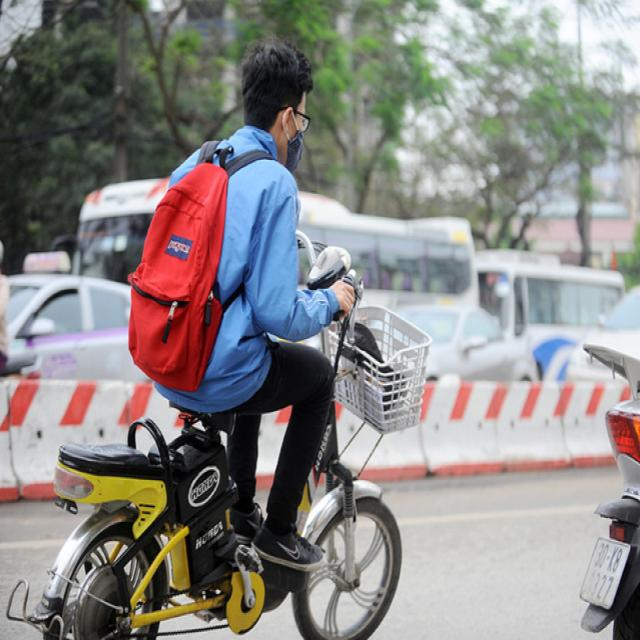Face and Hair: (234, 29, 321, 178)
